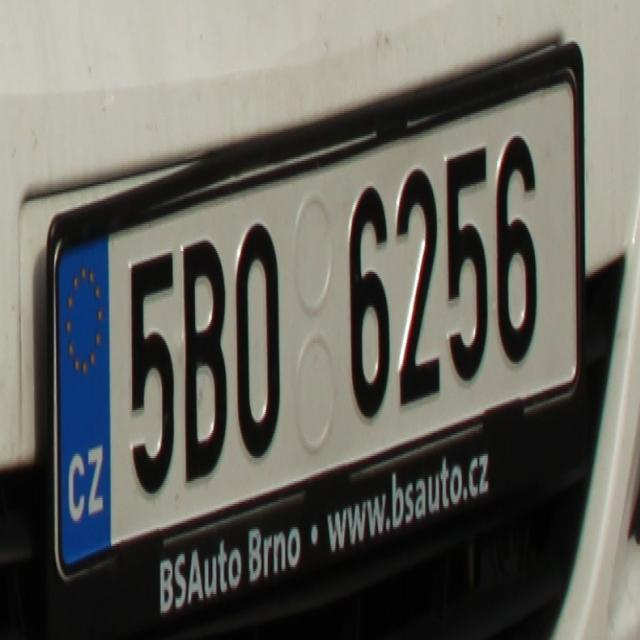0: (234, 222, 282, 462)
2: (394, 163, 442, 412)
5: (128, 246, 174, 494), (444, 144, 489, 389)
6: (494, 132, 538, 368), (348, 186, 391, 416)
B: (180, 230, 228, 477)
